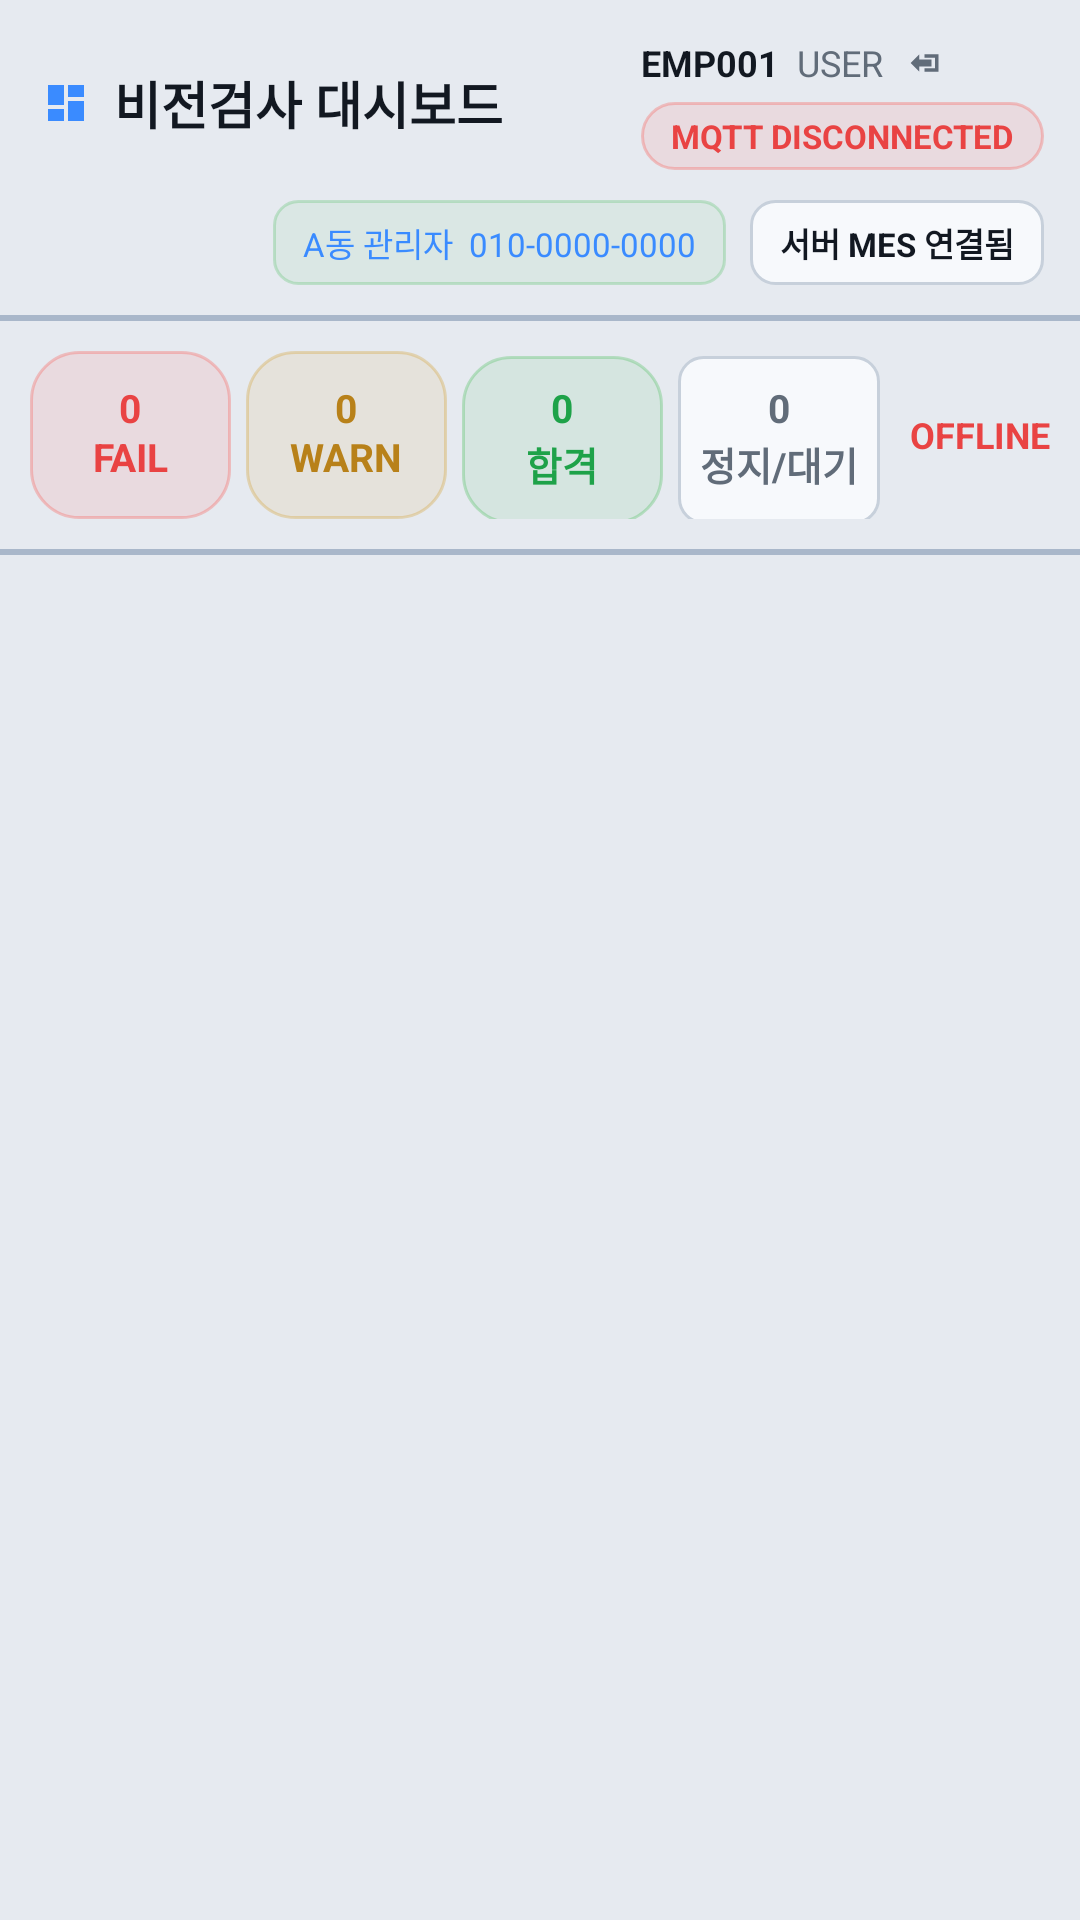

Icon bounding boxes for this 1080 × 1920 phone screenshot, format [left=x1, top=y1, right=x2, bottom=y2]:
dashboard: [left=48, top=85, right=84, bottom=121]
